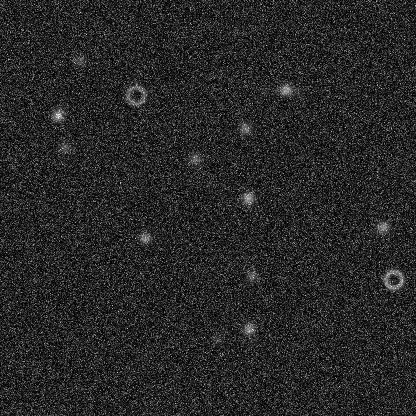Ring: (381, 267, 405, 291), (123, 83, 147, 107)
Spot: (186, 150, 202, 166), (49, 107, 65, 123), (136, 229, 152, 245), (240, 321, 256, 337), (70, 52, 86, 68), (56, 139, 72, 155), (203, 176, 219, 192), (257, 84, 273, 100), (243, 267, 259, 283), (374, 219, 390, 235), (240, 189, 256, 205), (236, 120, 252, 136), (289, 84, 305, 100), (277, 81, 293, 97), (209, 330, 225, 346)
